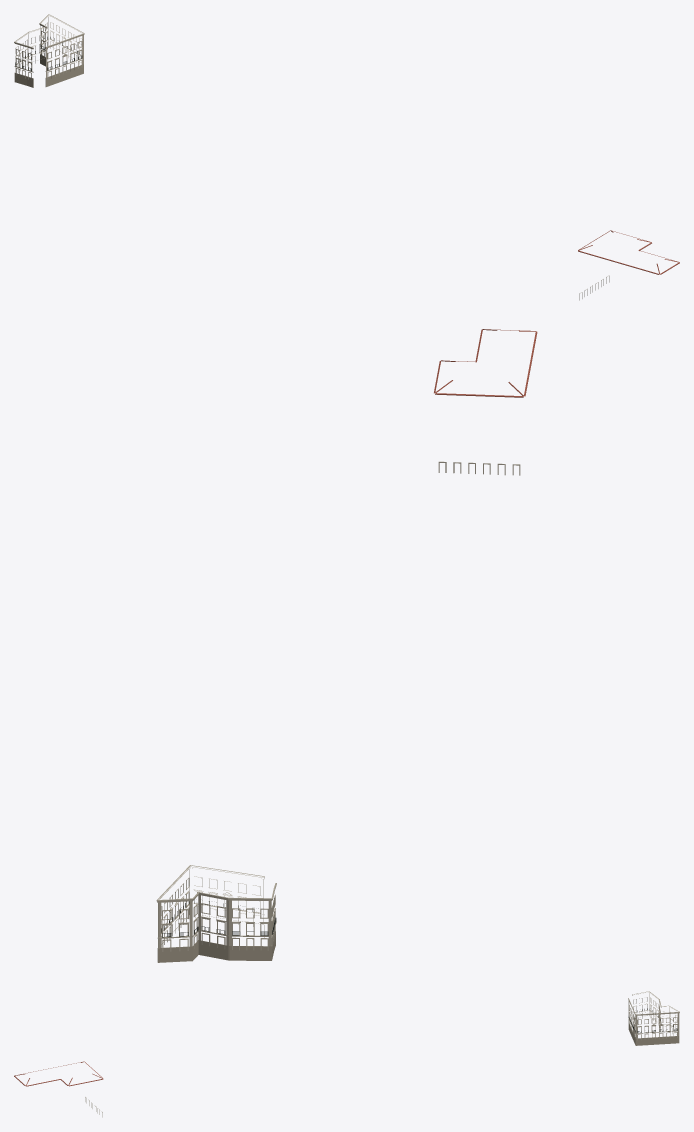
The picture shows the model from 3 angles, top to bottom: view 1: azimuth 30°, elevation 25°; view 2: azimuth 150°, elevation 25°; view 3: azimuth 270°, elevation 25°; orthographic projection. The views are drawn at different scales.
Visible parts, largest first — view 1: detail; view 2: detail; view 3: detail.
Boxes of the visible parts, x1,y1,x2,y2 form: detail: (14,14,679,300); detail: (156,329,537,962); detail: (14,991,679,1117).
Size of the model in its own units: 97.04 by 19.34 by 270.
